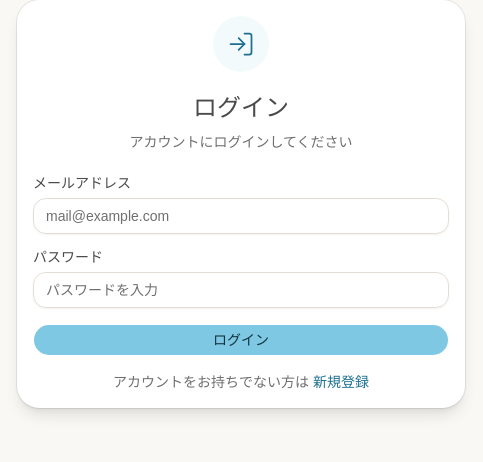
LoginForm › shows field-level validation errors from API
Type "test@example.com" into the field labelled "メールアドレス" at {"x": 241, "y": 216}, box x1=33 y1=198 x2=449 y2=234
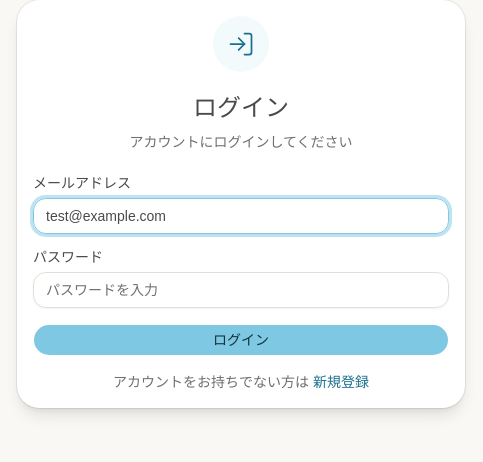
Type "wrongpassword" into the password field labelled "パスワード" at {"x": 241, "y": 290}, box x1=33 y1=272 x2=449 y2=308
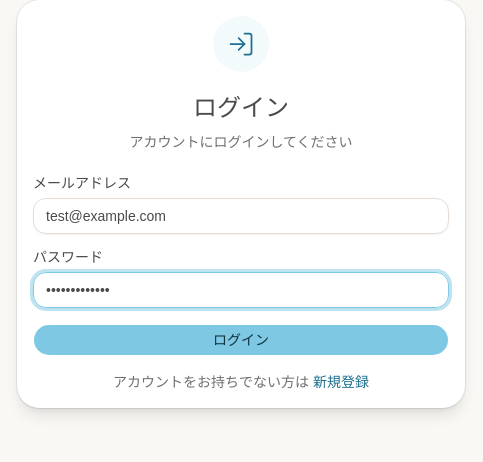
Click the button "ログイン" at {"x": 241, "y": 340}, box x1=33 y1=324 x2=449 y2=356
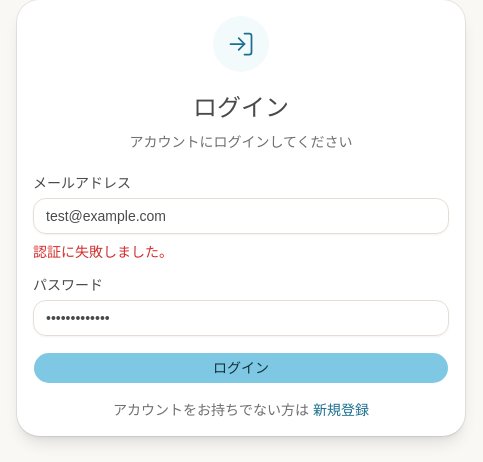
Check: the text "認証に失敗しました。" is shown, box x1=33 y1=244 x2=173 y2=260
